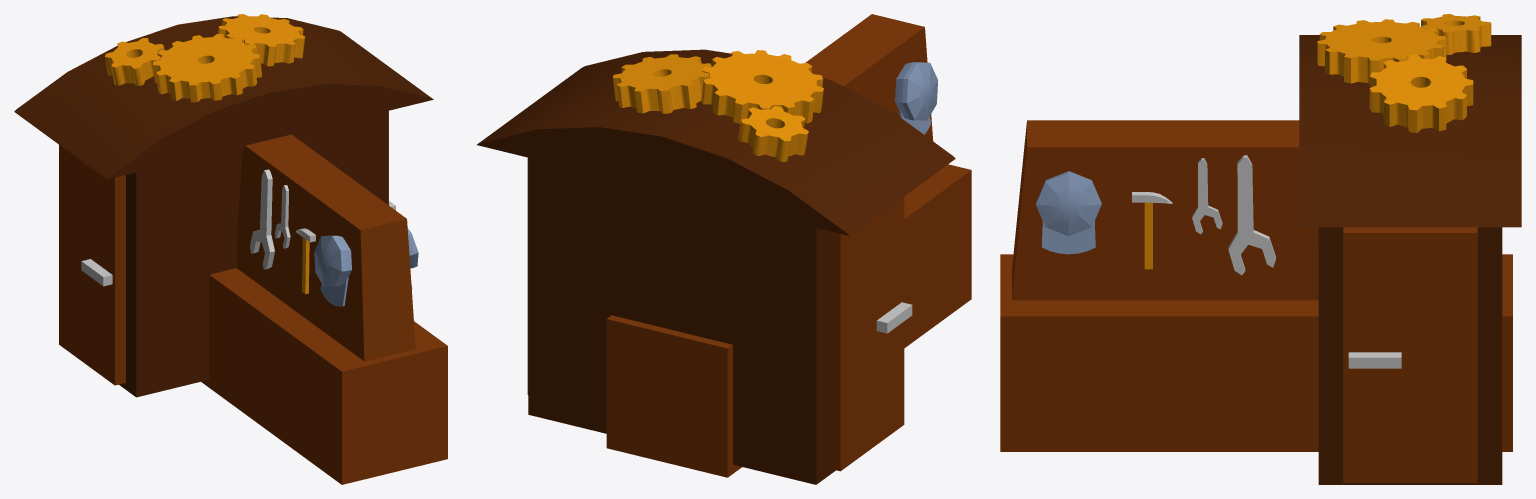
The model's file is Engineer block model export.fbx.
3 renders of one model, left to right at view 1: azimuth 30°, elevation 25°; view 2: azimuth 150°, elevation 25°; view 3: azimuth 270°, elevation 25°, orthographic. The views are drawn at different scales.
Visible parts, largest first — view 1: Cube_1, Cube_3_2, Cylinder_2, Cube_2_2, Cap_2_4, Extrude_1, Oil_Tank, Cap_2_3, Extrude, Extrude_2, Cap_2_5, Cap_2 (+2 smaller); view 2: Cube_1, Cylinder_2, Cube_3_2, Cube_2_2, Cap_2_4, Cap_2_3, Extrude, Oil_Tank, Extrude_1, Extrude_2, Cap_2_5, Cube_1_3; view 3: Cube_3_2, Cube_1, Cube_2_2, Cylinder_2, Cap_2_3, Cap_2_4, Oil_Tank, Extrude, Cap_2, Extrude_1, Extrude_2, Cylinder (+4 smaller).
Boxes of the visible parts, x1,y1,x2,y2 form: Cube_1: (59, 110, 388, 397); Cube_3_2: (201, 268, 447, 484); Cylinder_2: (14, 16, 433, 179); Cube_2_2: (236, 134, 415, 361); Cap_2_4: (153, 34, 259, 85); Extrude_1: (153, 36, 261, 102); Oil_Tank: (314, 228, 418, 286); Cap_2_3: (219, 14, 305, 46); Extrude: (218, 15, 305, 66); Extrude_2: (105, 40, 164, 86); Cap_2_5: (105, 38, 163, 68); Cap_2: (250, 171, 269, 269); Cube_1: (527, 157, 904, 484); Cylinder_2: (477, 49, 955, 235); Cube_3_2: (606, 164, 971, 477); Cube_2_2: (805, 14, 933, 140); Cap_2_4: (703, 50, 823, 108); Cap_2_3: (613, 54, 711, 91); Extrude: (613, 58, 711, 113); Oil_Tank: (895, 62, 937, 120); Extrude_1: (701, 53, 823, 123); Extrude_2: (738, 109, 808, 161); Cap_2_5: (741, 106, 808, 141); Cube_1_3: (876, 302, 912, 333); Cube_3_2: (1000, 254, 1512, 451); Cube_1: (1318, 227, 1502, 484); Cube_2_2: (1012, 120, 1318, 300); Cylinder_2: (1299, 35, 1521, 227); Cap_2_3: (1370, 54, 1473, 110); Cap_2_4: (1317, 19, 1445, 60); Oil_Tank: (1035, 171, 1101, 236); Extrude: (1369, 60, 1473, 132); Cap_2: (1228, 157, 1275, 275); Extrude_1: (1317, 23, 1446, 84); Extrude_2: (1421, 17, 1491, 54); Cylinder: (1041, 221, 1095, 254).
Size of the model in its own units: 40.83 by 36.78 by 46.93.
